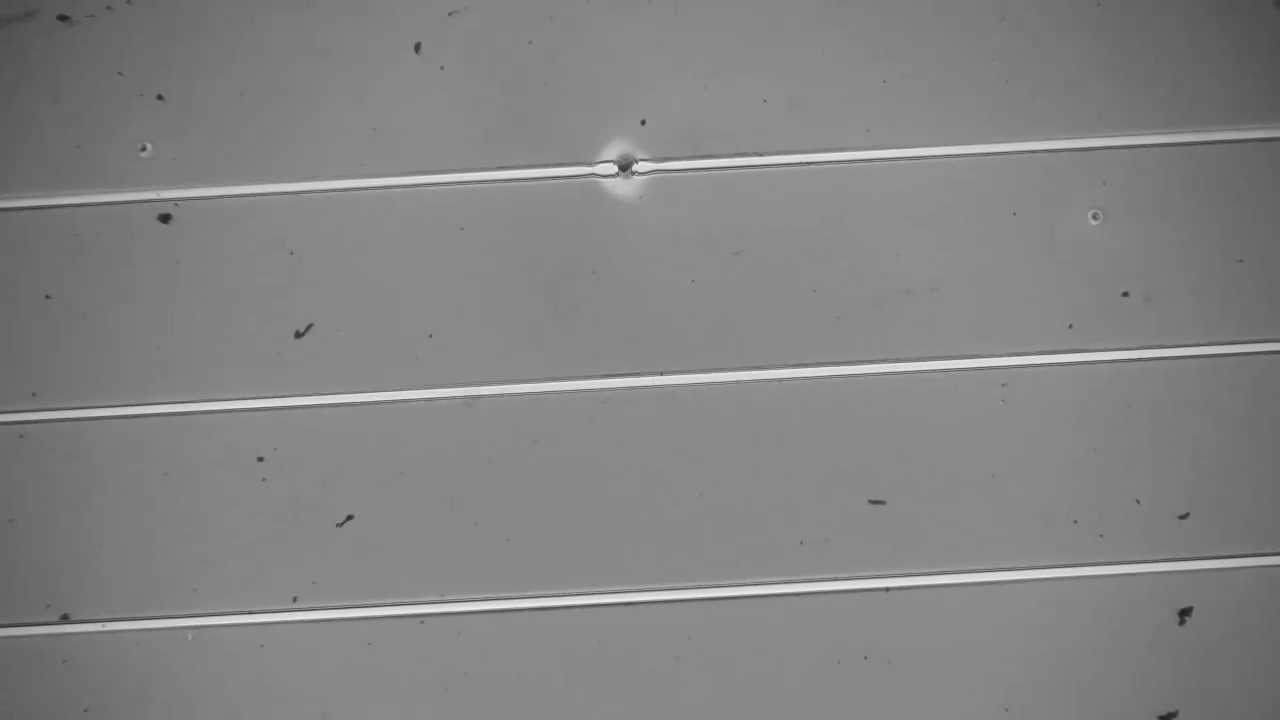stains_enbedded: (606, 135, 649, 191)
